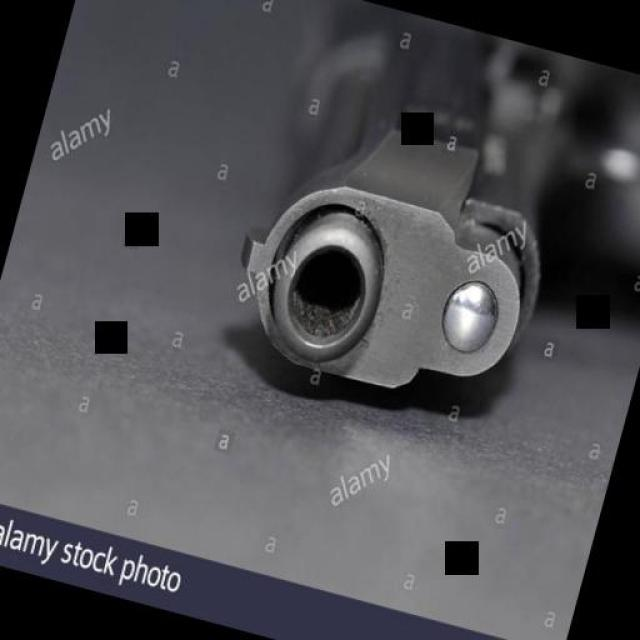gun: (212, 0, 640, 440)
